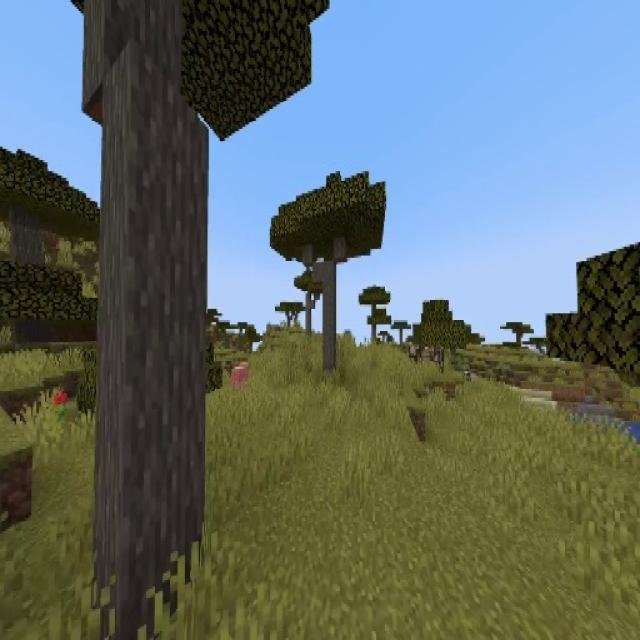acacia: (270, 169, 385, 376)
acacia_log: (85, 0, 206, 640), (322, 263, 337, 375)
oak: (413, 299, 465, 376)
